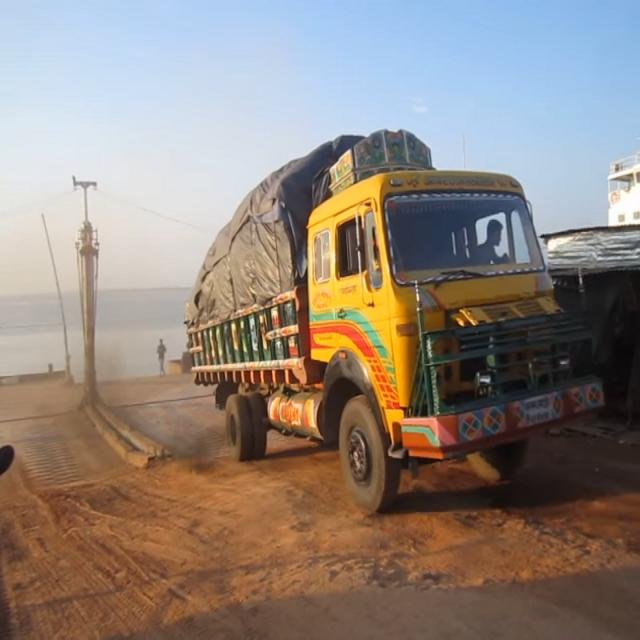truck: (180, 100, 606, 518)
